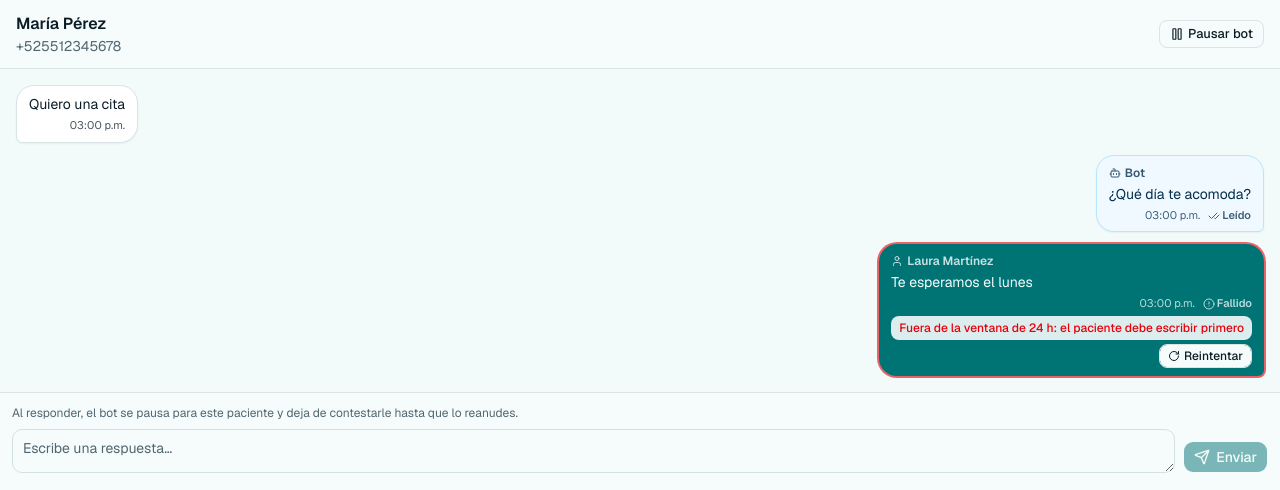
Scenario: ConversationThread › pausa y reanuda el bot
Step 1. Click the button "Pausar bot" → (1212, 34), box left=1159, top=20, right=1264, bottom=48
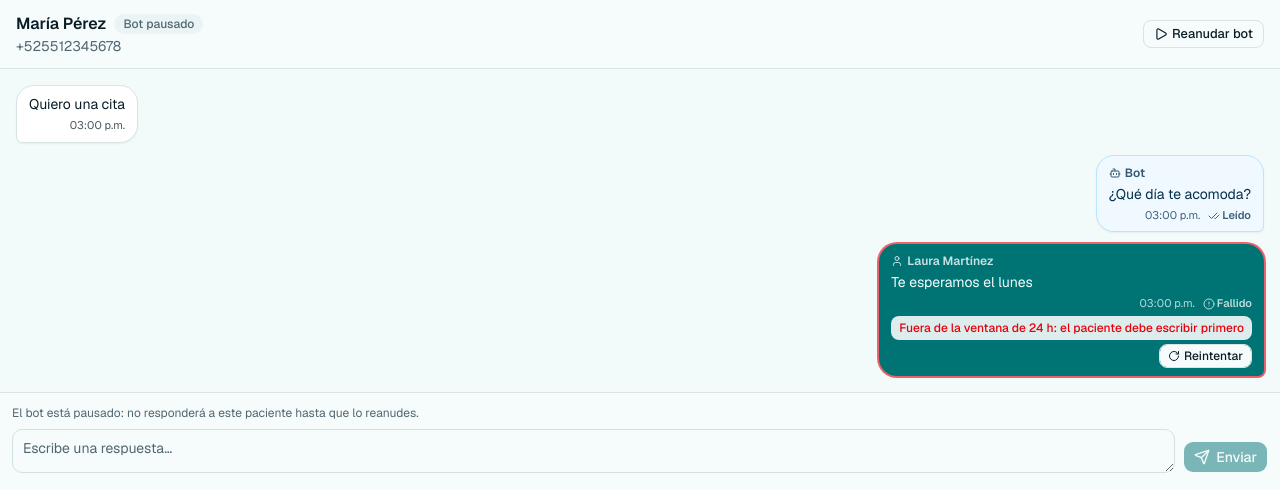
Check: the button "Reanudar bot" is shown, box left=1143, top=20, right=1264, bottom=48
Check: the text "El bot está pausado: no responderá a este paciente" is shown, box left=12, top=405, right=419, bottom=421
